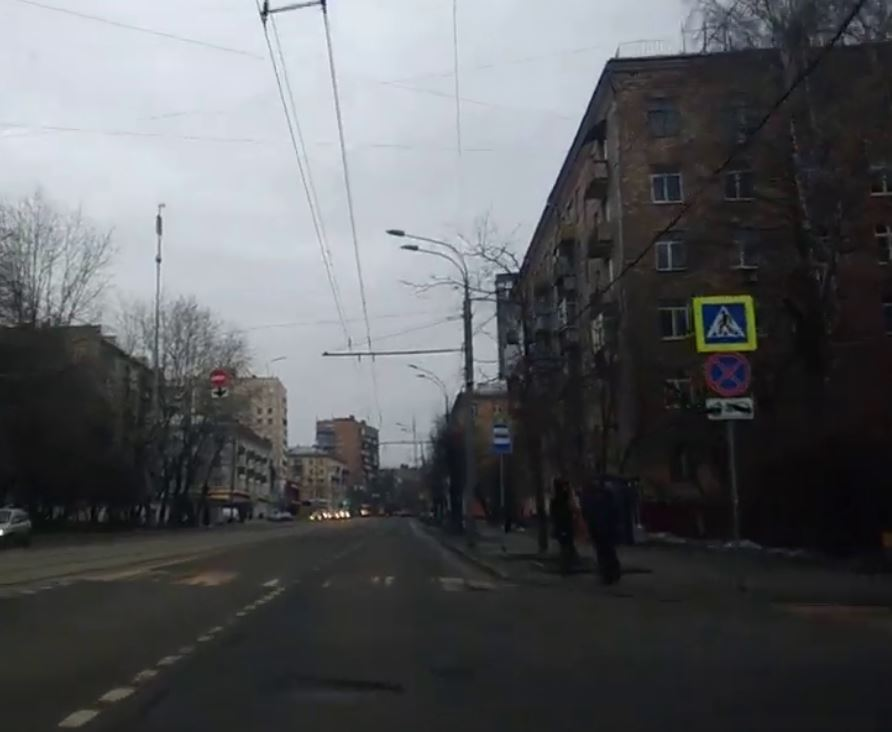Yaya Gecidi: (702, 301, 752, 343)
